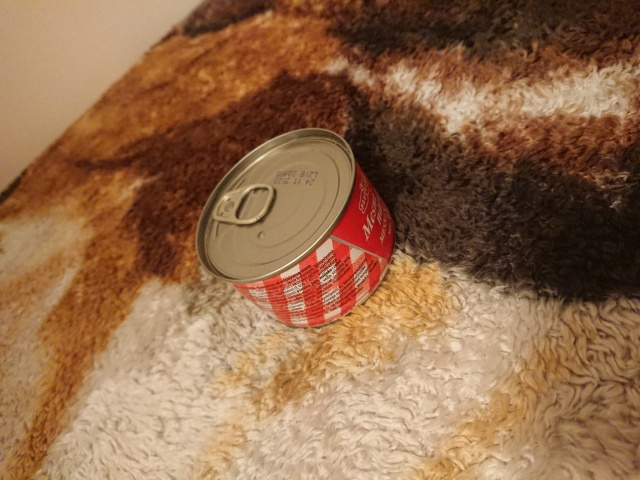Podravka Luncheon Meat 150g: (192, 123, 399, 333)
